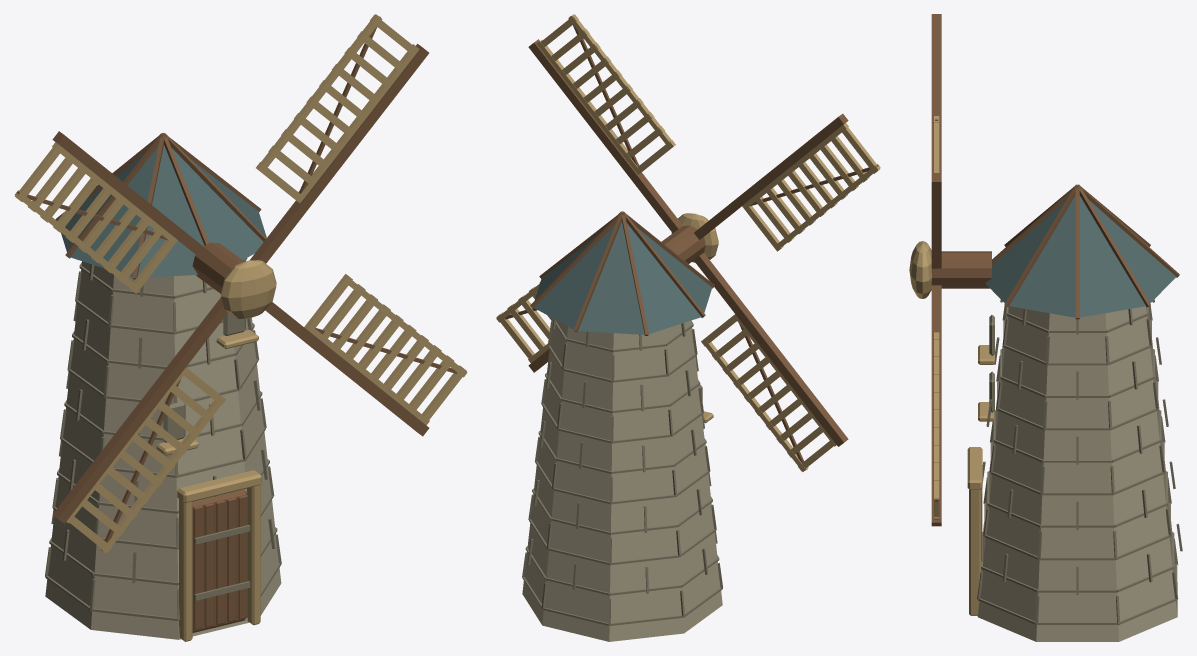
File: rolling_meadow-component.glb
3 views of the same model, side by side, from view 1: azimuth 30°, elevation 25°; view 2: azimuth 150°, elevation 25°; view 3: azimuth 270°, elevation 25° (orthographic). The views are drawn at different scales.
Parts seen in each view (by area): view 1: runtime_dry stone limestone, runtime_warm blade timber, runtime_windmill oak, runtime_stone shadow, runtime_slate cap; view 2: runtime_dry stone limestone, runtime_warm blade timber, runtime_windmill oak, runtime_slate cap, runtime_stone shadow; view 3: runtime_dry stone limestone, runtime_slate cap, runtime_stone shadow, runtime_windmill oak, runtime_warm blade timber.
Boxes of the visible parts, x1,y1,x2,y2 form: runtime_dry stone limestone: [45, 261, 281, 639]; runtime_warm blade timber: [15, 14, 467, 641]; runtime_windmill oak: [17, 16, 457, 632]; runtime_stone shadow: [45, 258, 281, 620]; runtime_slate cap: [61, 145, 266, 277]; runtime_dry stone limestone: [522, 320, 722, 641]; runtime_warm blade timber: [496, 14, 880, 471]; runtime_windmill oak: [504, 16, 878, 469]; runtime_slate cap: [534, 222, 712, 334]; runtime_stone shadow: [522, 317, 722, 625]; runtime_dry stone limestone: [977, 306, 1177, 641]; runtime_slate cap: [985, 195, 1176, 317]; runtime_stone shadow: [977, 299, 1182, 624]; runtime_windmill oak: [931, 14, 1179, 571]; runtime_warm blade timber: [909, 116, 994, 615].
Bounding box in the file's own units: 5.02 × 6.38 × 2.91.
